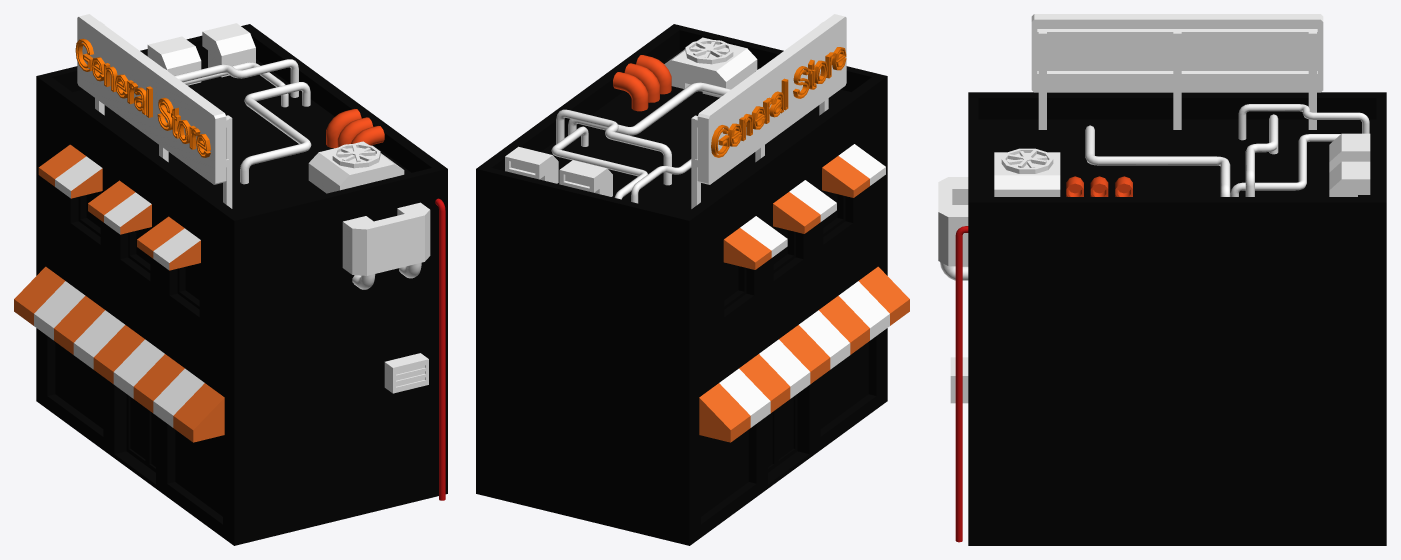
Rendered from General_Store_01.FBX.
3 renders of one model, left to right at view 1: azimuth 30°, elevation 25°; view 2: azimuth 150°, elevation 25°; view 3: azimuth 270°, elevation 25°, orthographic. The views are drawn at different scales.
Visible parts, largest first — view 1: General_Store_01; view 2: General_Store_01; view 3: General_Store_01.
Boxes of the visible parts, x1,y1,x2,y2 form: General_Store_01: [14, 14, 447, 545]; General_Store_01: [476, 14, 909, 545]; General_Store_01: [938, 14, 1386, 545].
Bounding box in the file's own units: 13.56 × 21.37 × 20.31.
